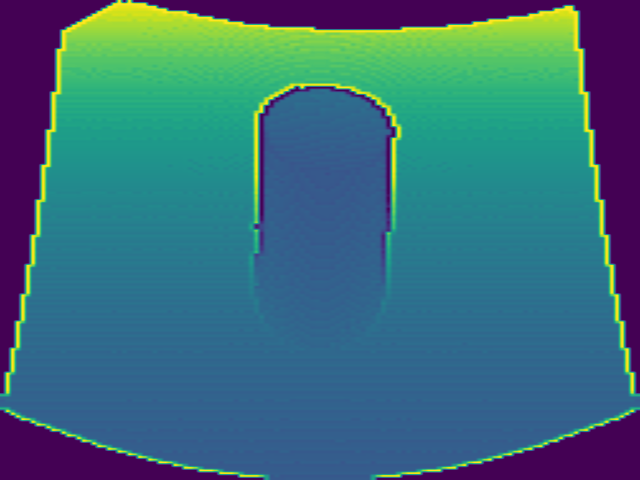cylinder: (249, 81, 400, 352)
